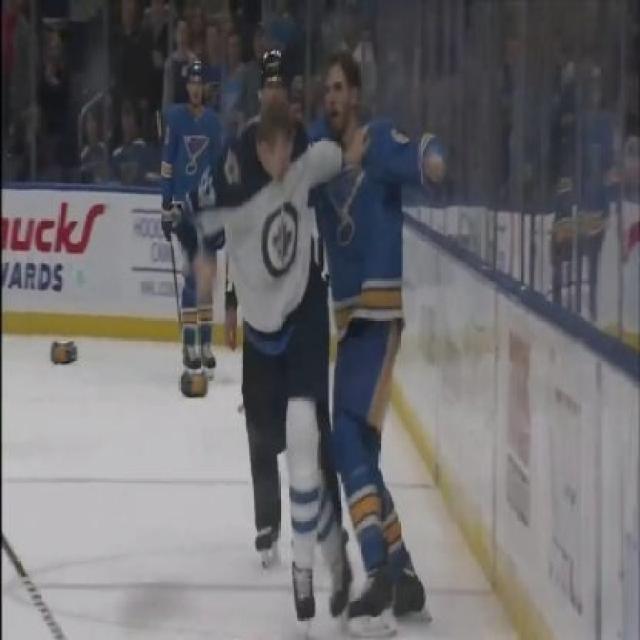fight: (176, 31, 441, 628)
